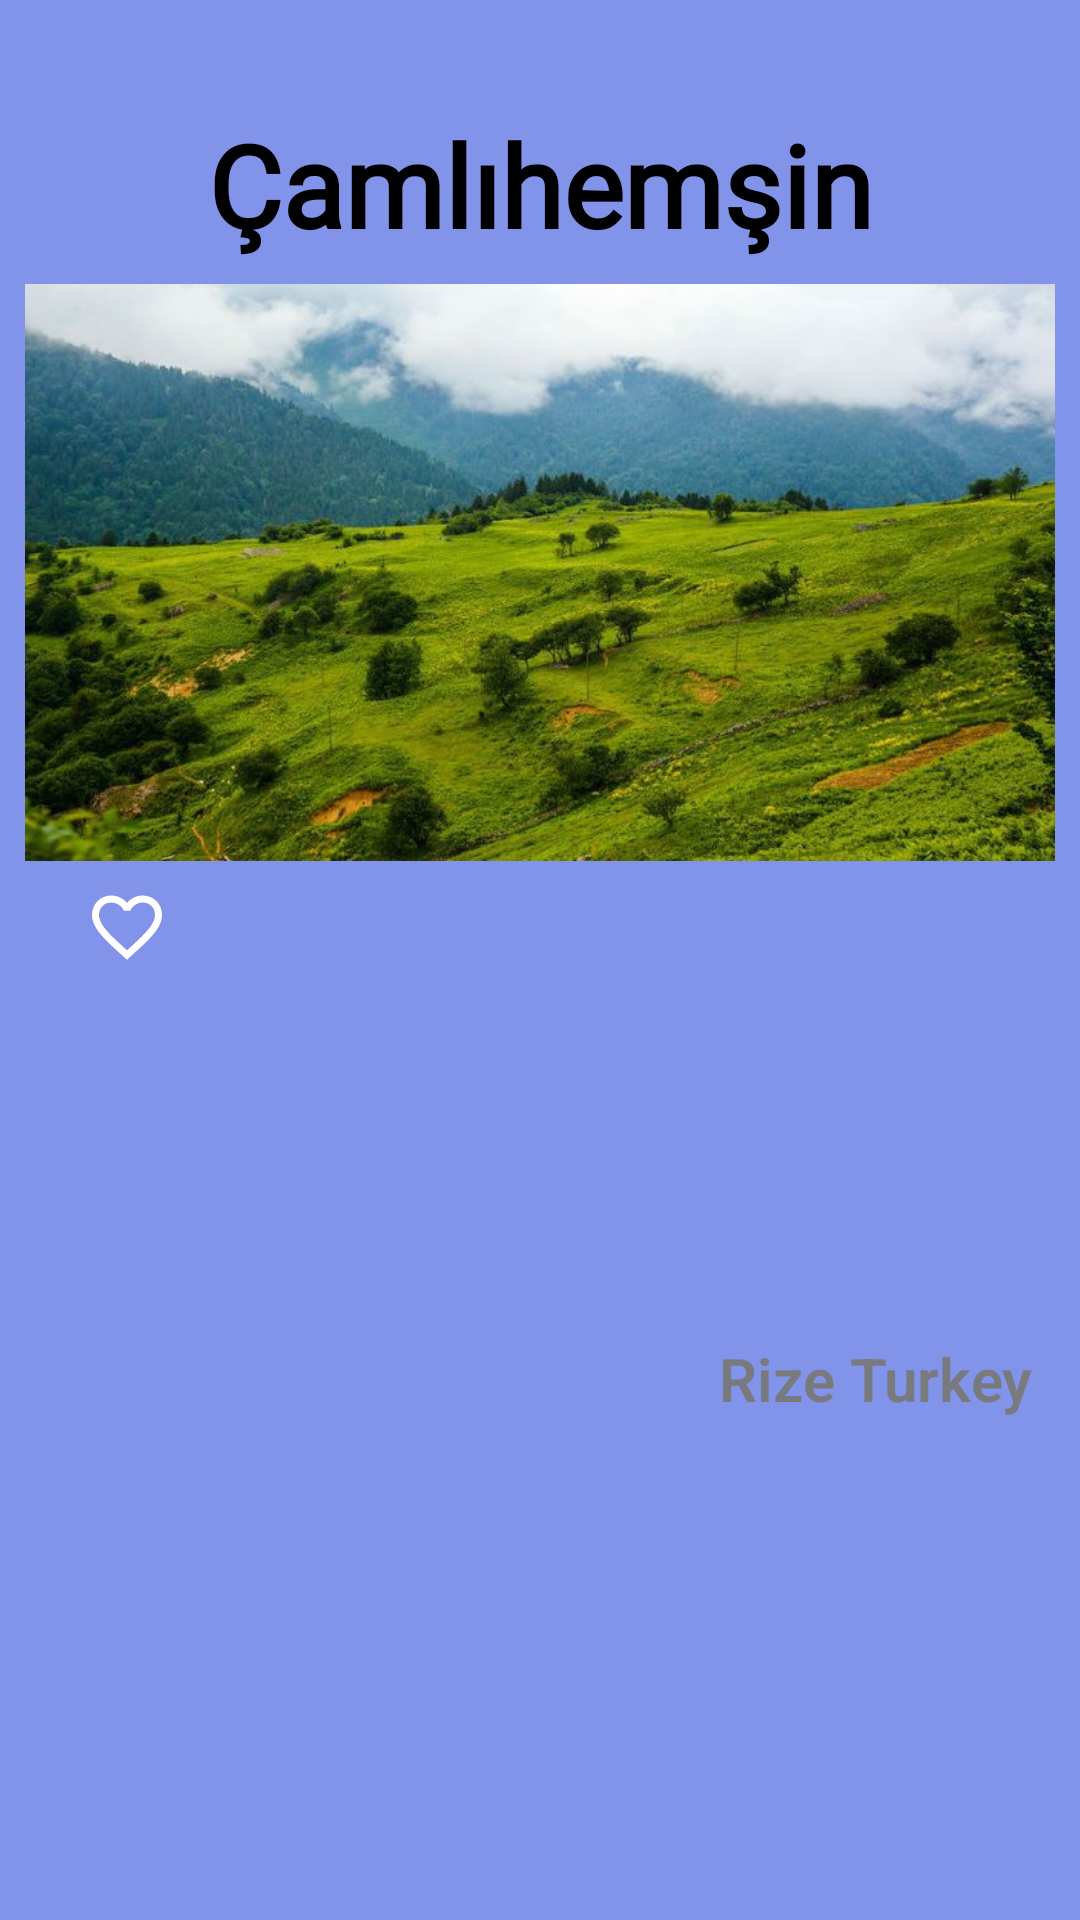

Screen size 1080px×1920px. Icon name, then its box in pixels as (x1, y1, x2, y2):
favorite false: (92, 895, 162, 960)
